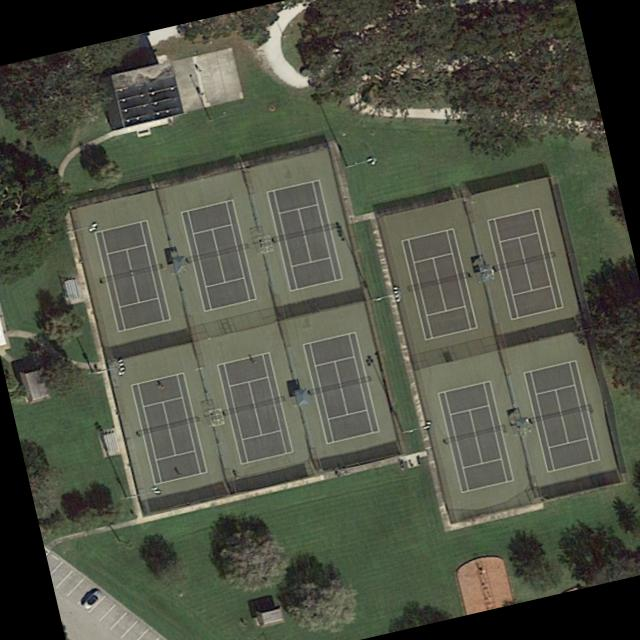small-vehicle: (78, 587, 106, 614)
